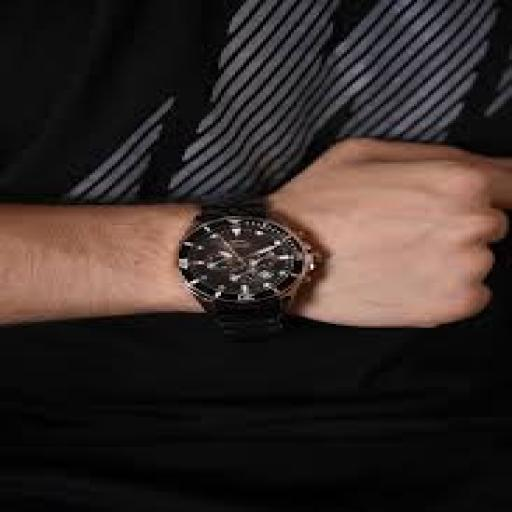KolSaati: (159, 181, 335, 345)
